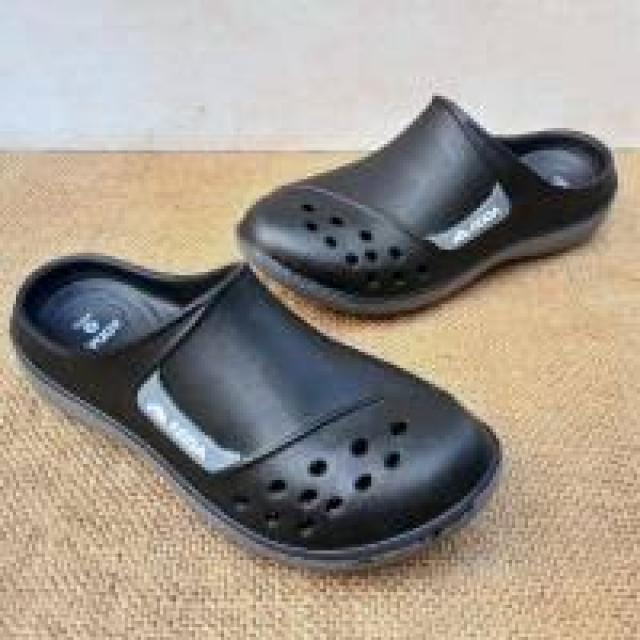shoe: (5, 250, 508, 574), (237, 90, 628, 319)
